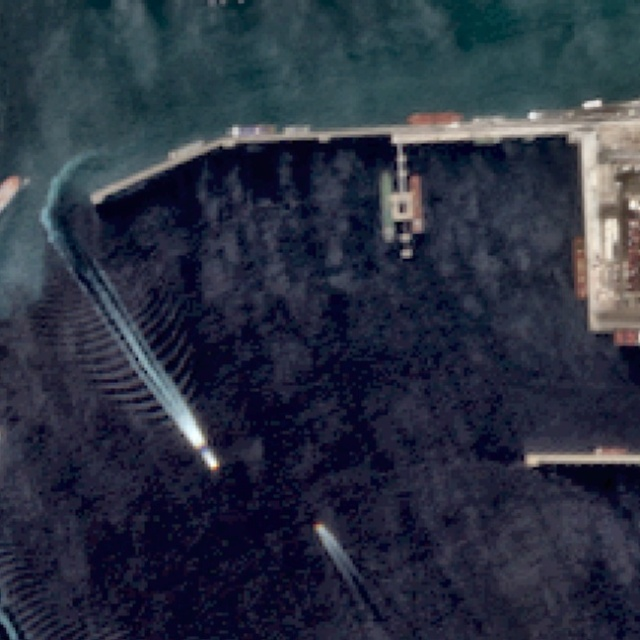wake: (53, 264, 262, 505)
